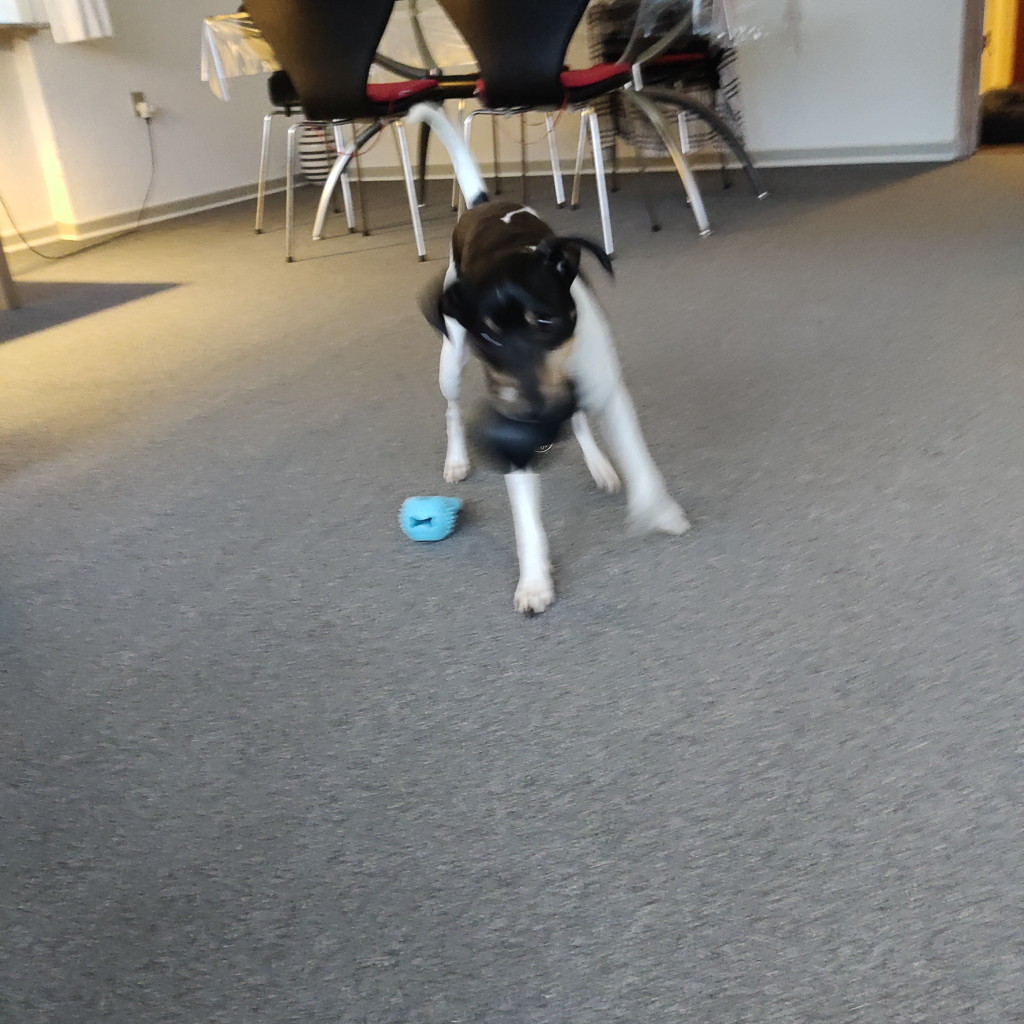Dog: (372, 79, 717, 636)
